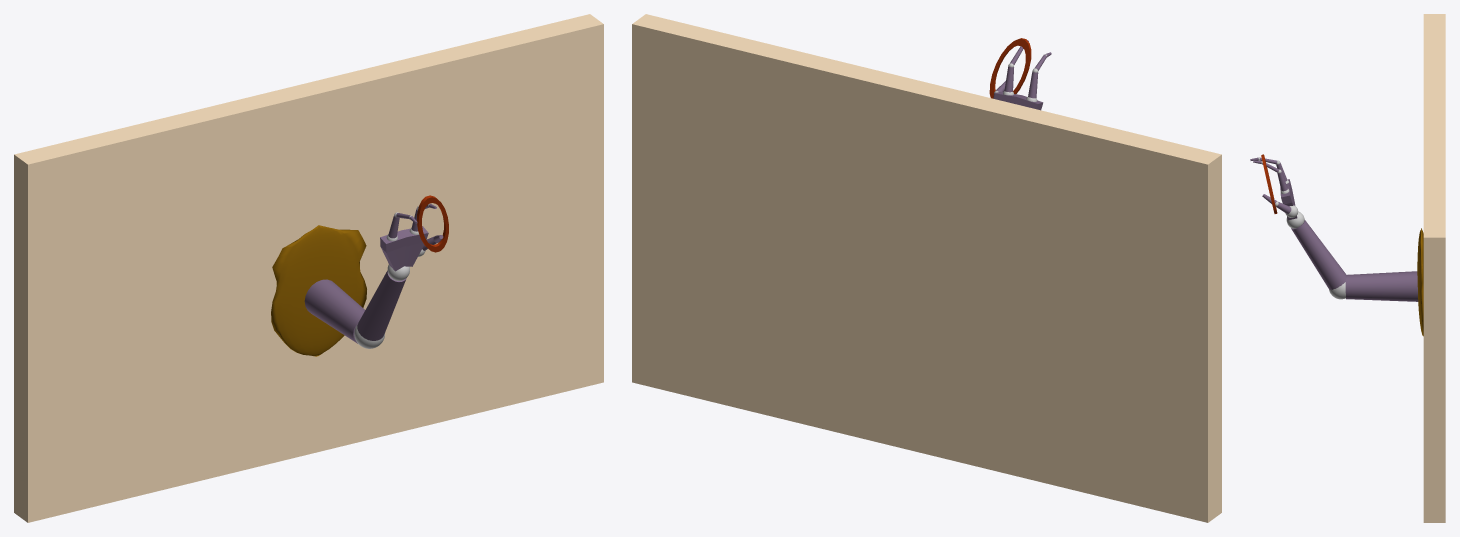
File: Robot Arm Model with Texture.fbx
3 views of the same model, side by side, from view 1: azimuth 30°, elevation 25°; view 2: azimuth 150°, elevation 25°; view 3: azimuth 270°, elevation 25° (orthographic). The views are drawn at different scales.
Parts seen in each view (by area): view 1: pCube3, polySurface52, polySurface66, polySurface69, polySurface70, polySurface59; view 2: pCube3, polySurface70; view 3: pCube3, polySurface66, polySurface69, polySurface52.
Boxes of the visible parts, bbox=[...] form: pCube3: bbox=[14, 14, 603, 522]; polySurface52: bbox=[271, 225, 366, 356]; polySurface66: bbox=[304, 279, 365, 343]; polySurface69: bbox=[357, 270, 406, 340]; polySurface70: bbox=[417, 195, 448, 252]; polySurface59: bbox=[381, 243, 423, 271]; pCube3: bbox=[632, 14, 1221, 522]; polySurface70: bbox=[989, 38, 1031, 98]; pCube3: bbox=[1423, 14, 1445, 522]; polySurface66: bbox=[1345, 271, 1418, 301]; polySurface69: bbox=[1291, 220, 1346, 289]; polySurface52: bbox=[1417, 228, 1423, 336].
Bounding box in the file's own units: 24.02 × 14.28 × 8.86.
